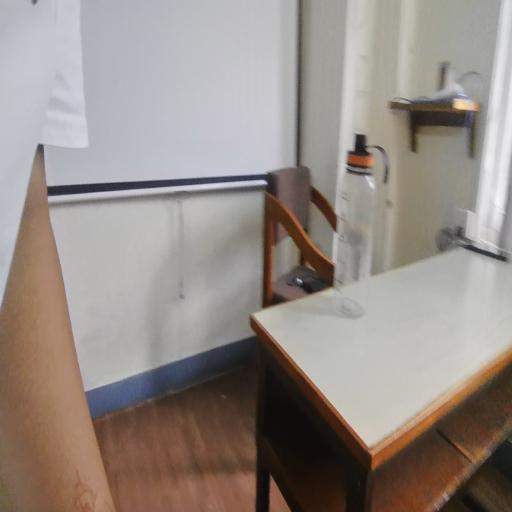Bottle: (342, 125, 378, 325)
